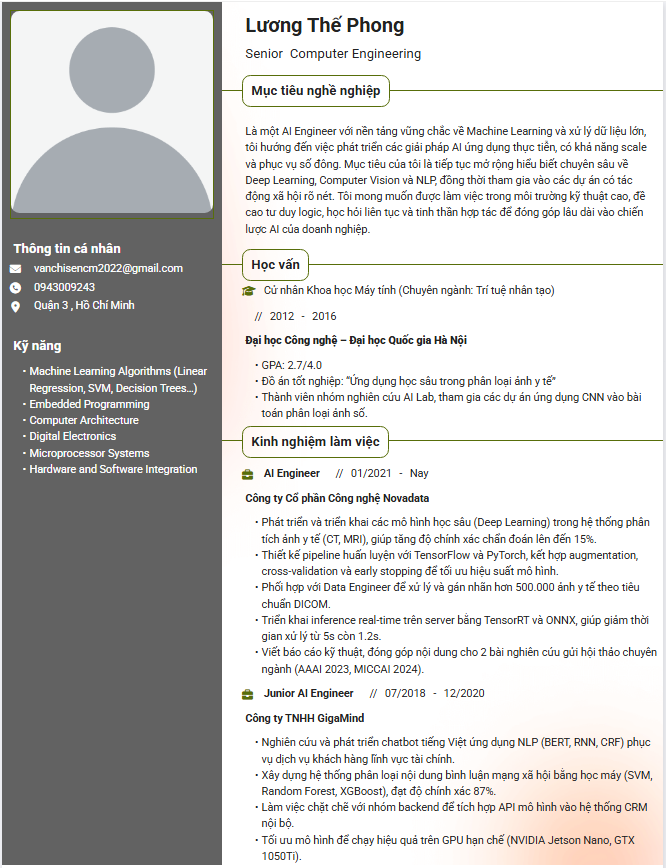address: (6, 298, 142, 322)
gpa: (249, 356, 325, 372)
level: (240, 46, 285, 66)
position: (289, 44, 430, 65)
skill: (7, 330, 218, 495)
